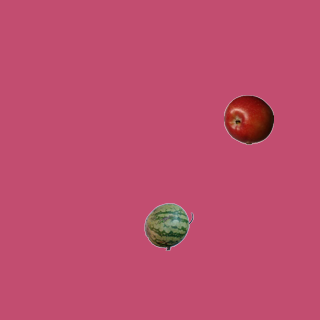Apple Braeburn: (223, 94, 273, 144)
Watermelon: (143, 201, 193, 251)
